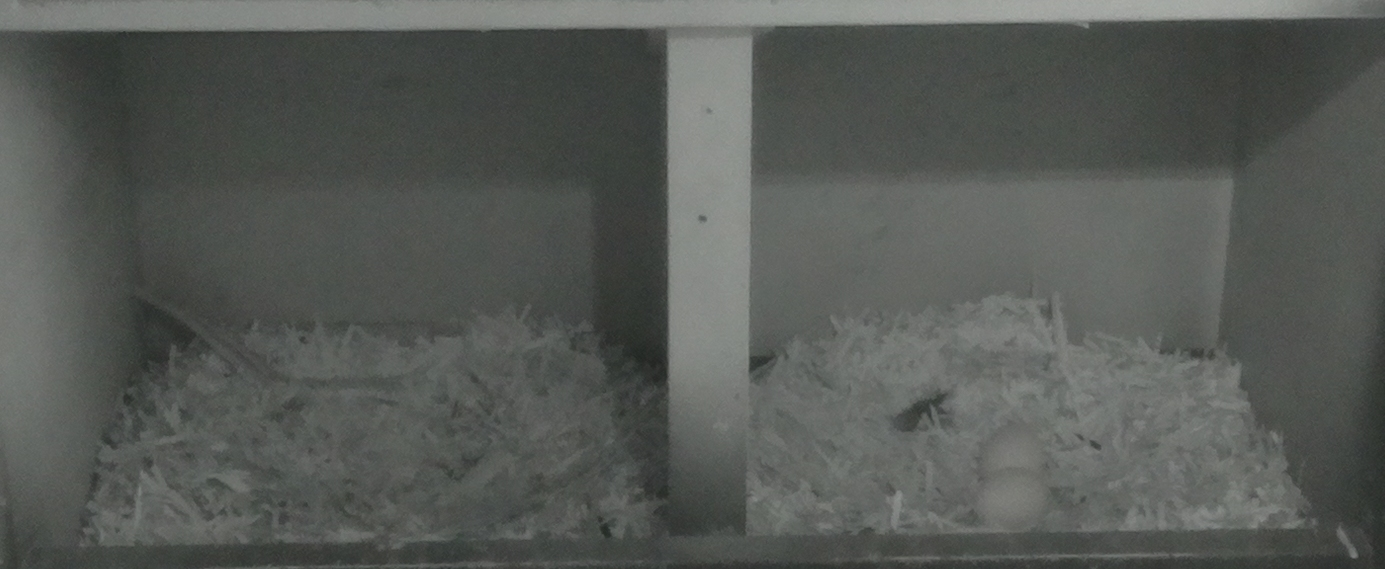Egg: (969, 466, 1054, 536), (980, 423, 1041, 477)
